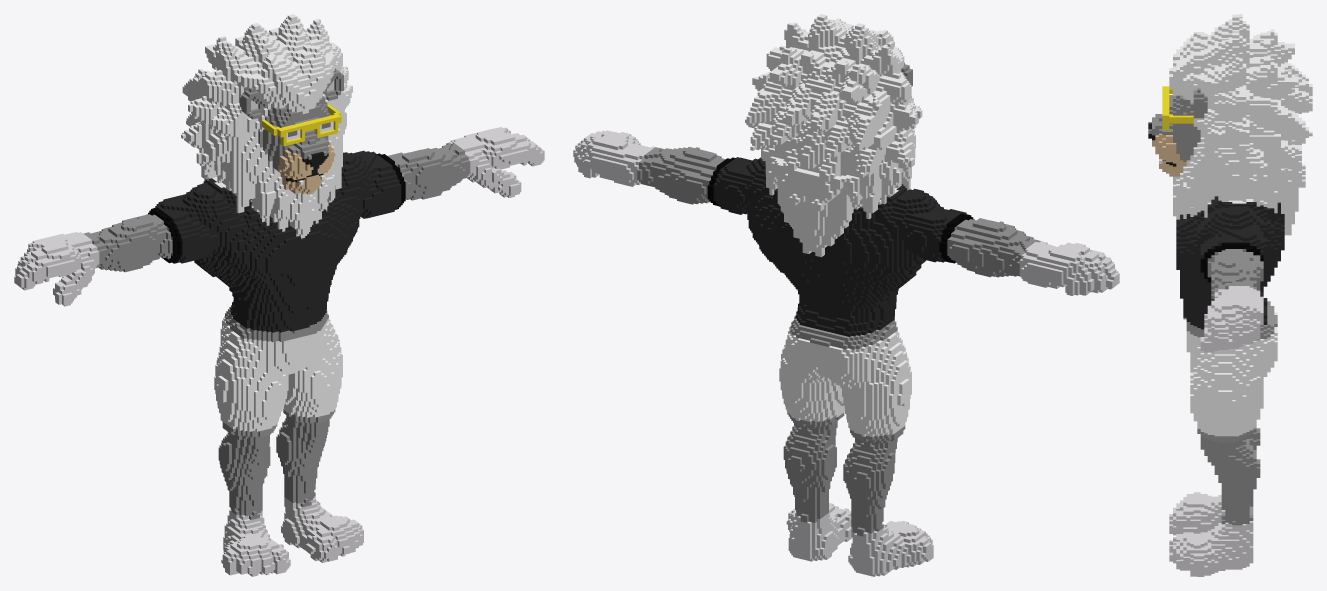
File: 256-C8YTI_yN.glb
3 renders of one model, left to right at view 1: azimuth 30°, elevation 25°; view 2: azimuth 150°, elevation 25°; view 3: azimuth 270°, elevation 25°, orthographic. The views are drawn at different scales.
Visible parts, largest first — view 1: standard; view 2: standard; view 3: standard.
Boxes of the visible parts, x1,y1,x2,y2 form: standard: (14,14,544,576); standard: (573,14,1119,576); standard: (1148,14,1312,576).
Size of the model in its own units: 17.2 by 16.5 by 4.7.
Materials: 5 (5 with a texture image).
